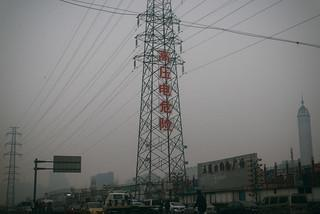power_tower: (129, 0, 194, 198)
